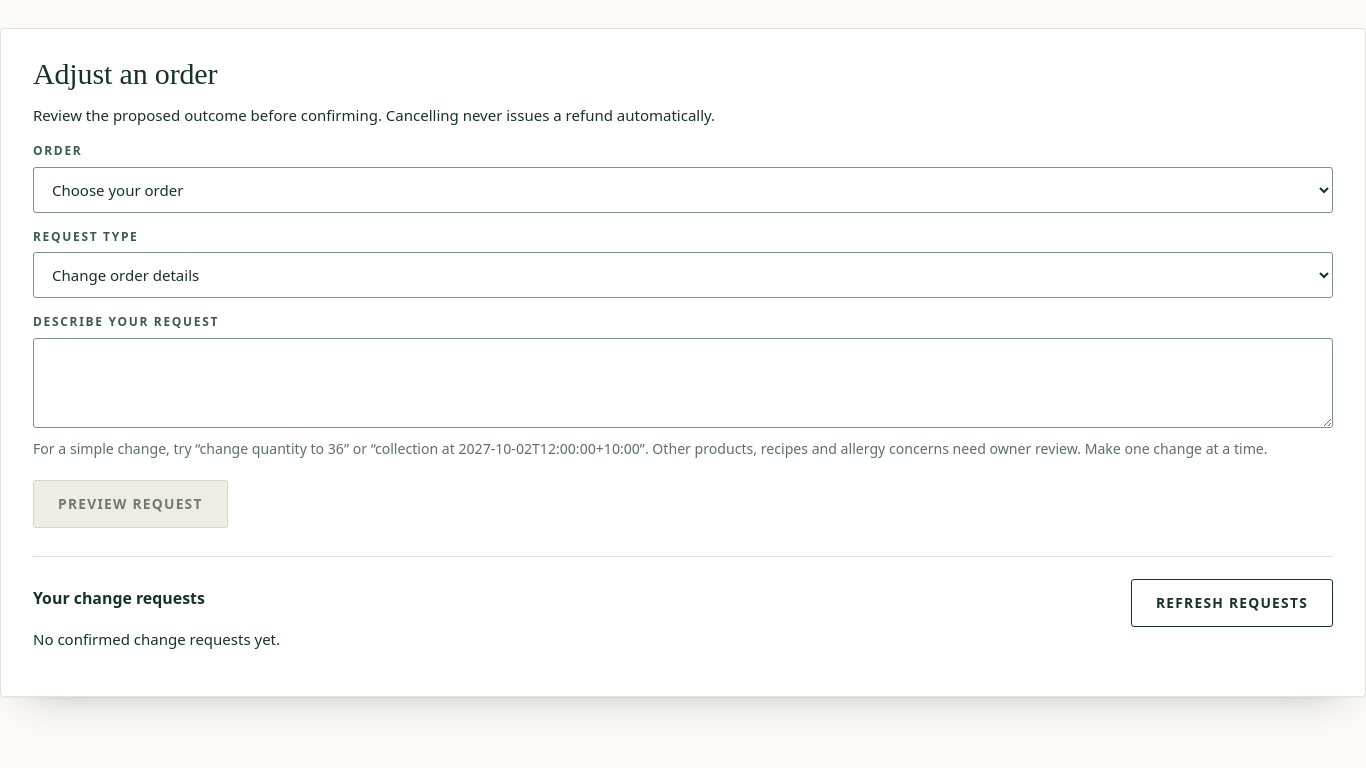
Test: stale requests require a fresh preview
This screenshot has width=1366, height=768.
Select "24 cupcakes · #order-1 (Draft)" in the dropdown labelled "Order": x=683, y=190 [33,167,1333,213]
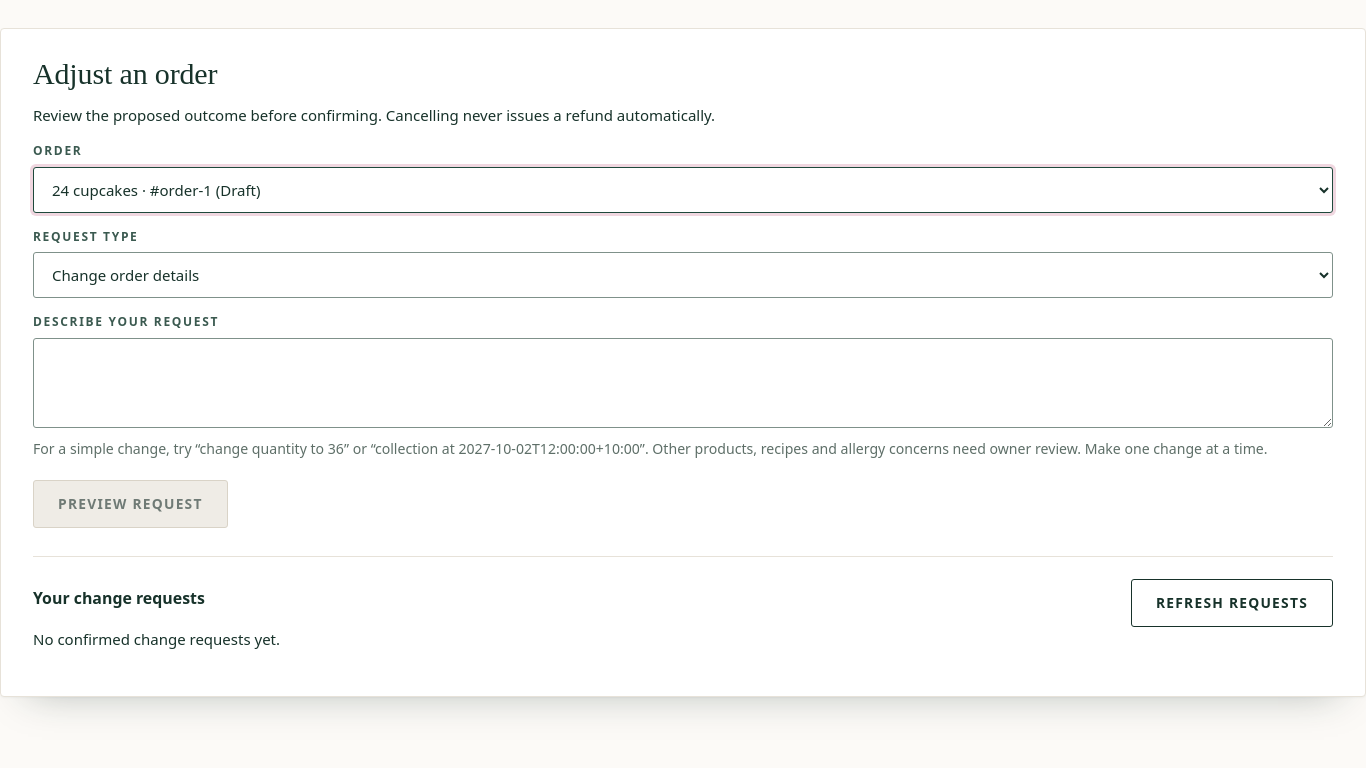
In the text box labelled "Describe your request": x=683, y=383 [33,338,1333,428], type "change quantity to 36"
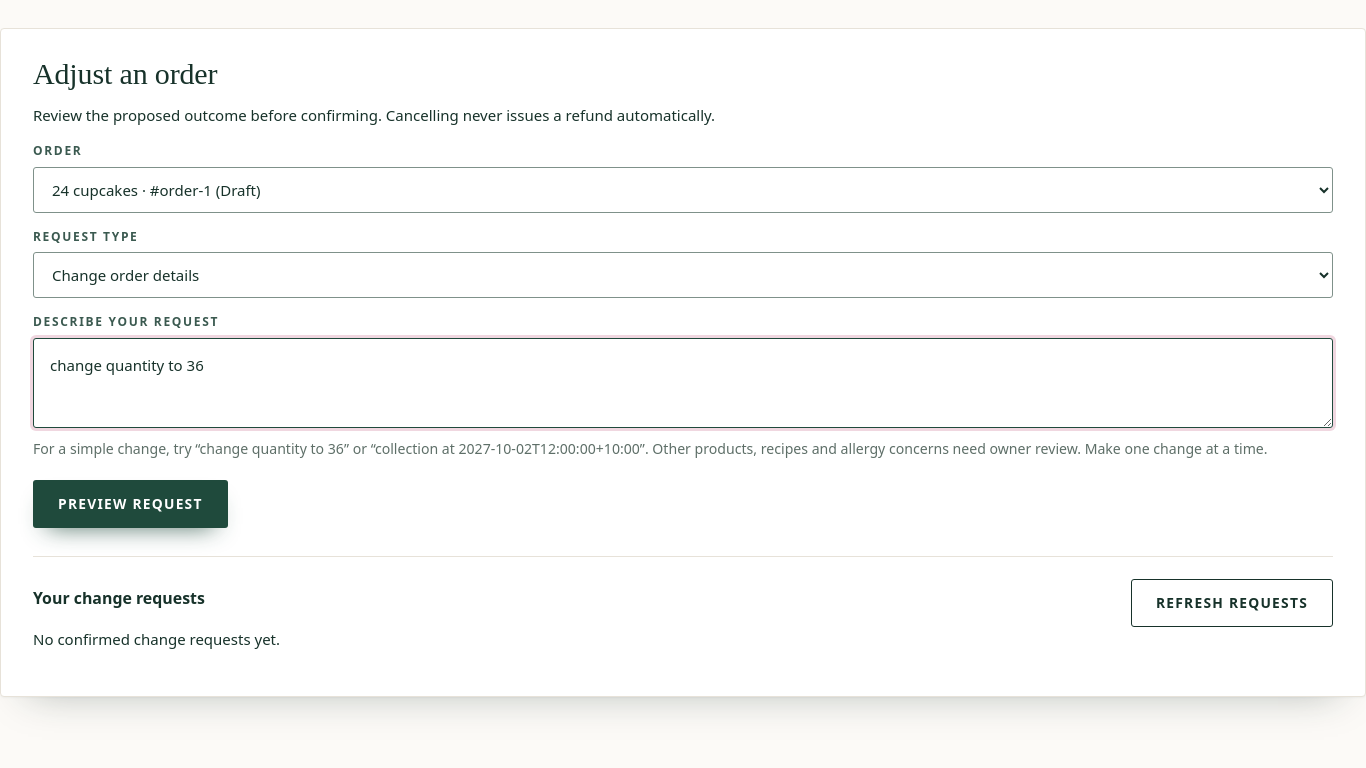
Click the button "Preview request": x=130, y=504 [33,480,228,528]
(page scrolled)
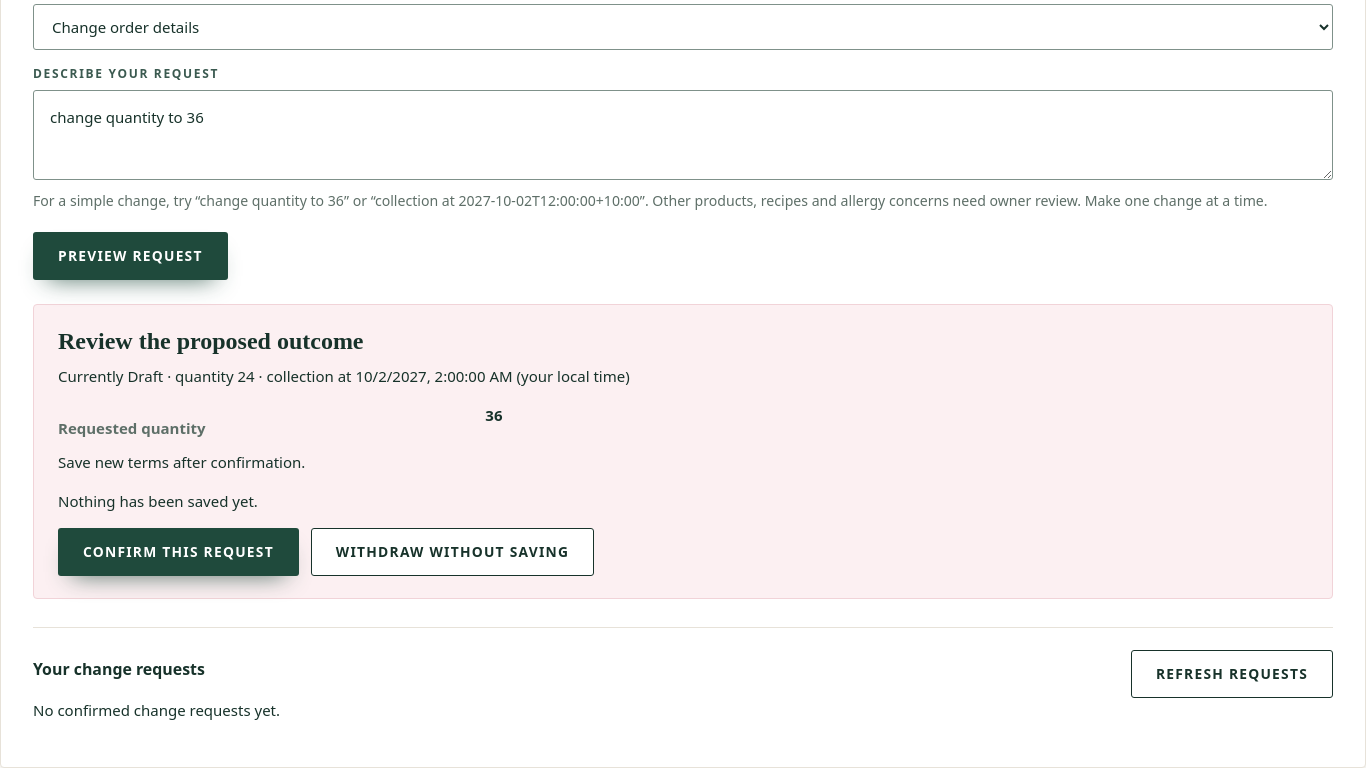
Expected: the heading "Review the proposed outcome" is shown, [58,328,364,354]
Click the button "Confirm this request": x=178, y=552 [58,528,299,576]
(page scrolled)
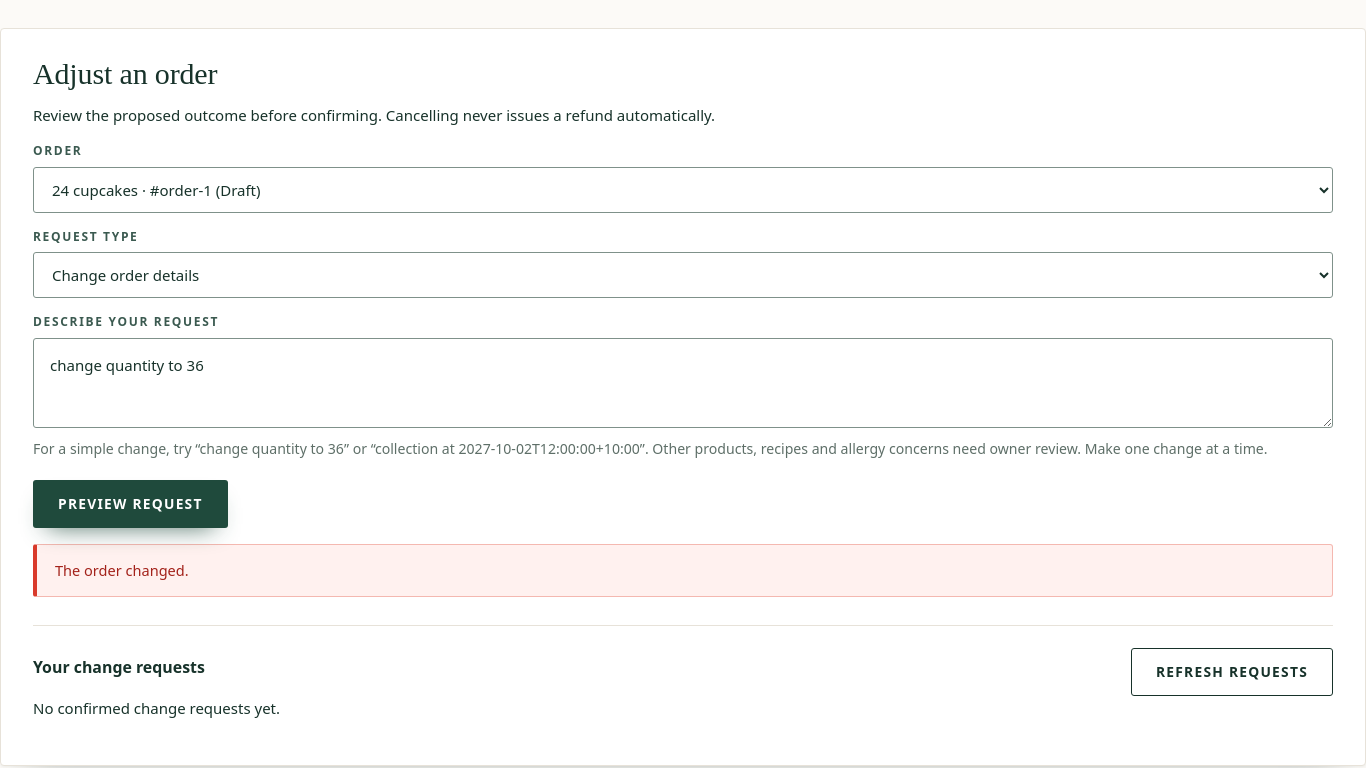
Expected: the message shows "The order changed", [55,560,189,580]
Expected: the button "Confirm this request" is gone
